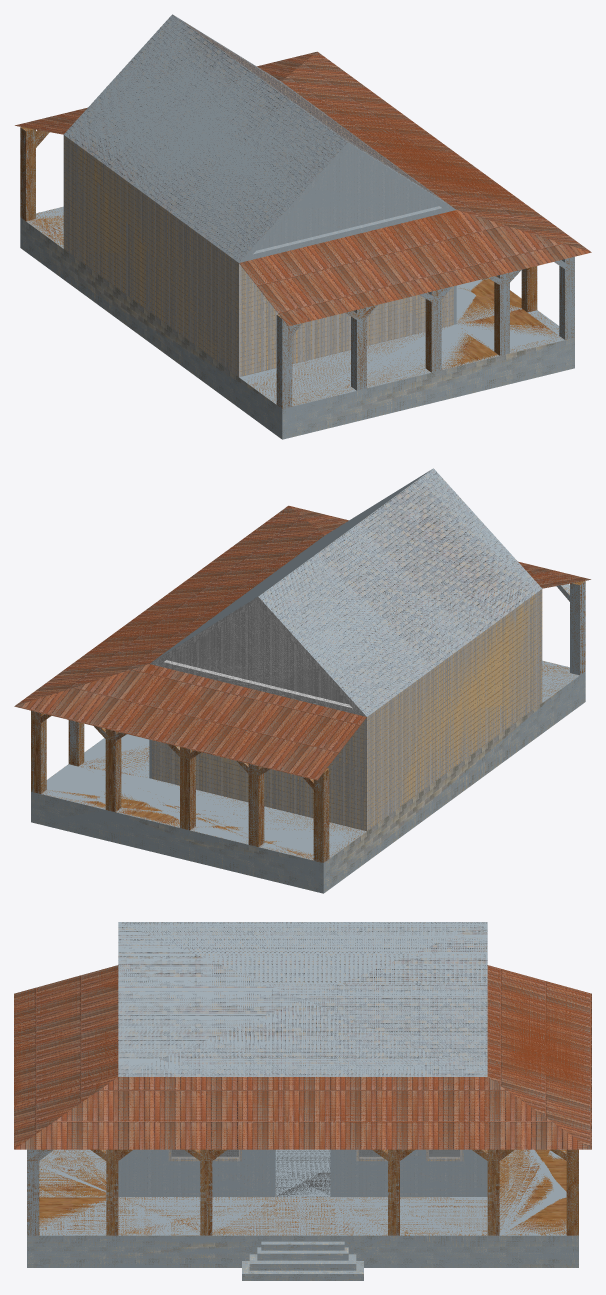
Rendered from house.fbx.
3 views of the same model, one above another, from view 1: azimuth 30°, elevation 25°; view 2: azimuth 150°, elevation 25°; view 3: azimuth 270°, elevation 25° (orthographic). The views are drawn at different scales.
Parts seen in each view (by area): view 1: Model; view 2: Model; view 3: Model.
Part boxes in pixels (bbox=[...]): Model: bbox=[15, 14, 591, 439]; Model: bbox=[14, 468, 590, 893]; Model: bbox=[14, 922, 591, 1280].
Size of the model in its own units: 12.69 by 9.11 by 18.99.
